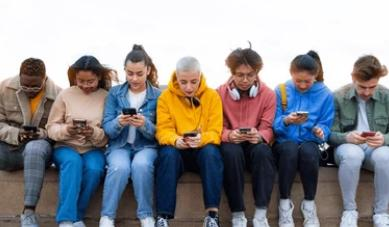phone: (271, 50, 336, 145), (211, 49, 275, 144), (158, 57, 221, 151), (330, 55, 389, 148), (49, 55, 108, 145), (104, 50, 157, 137), (1, 58, 48, 140)
